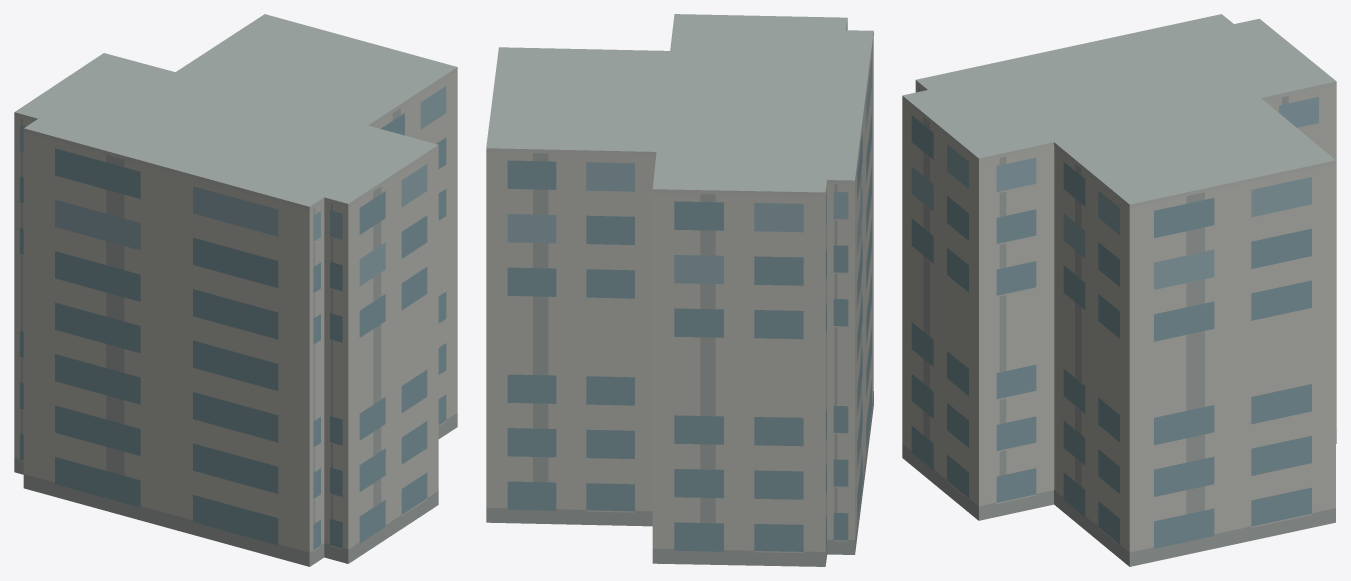
Rendered from survey-upis-32832567.glb.
3 renders of one model, left to right at view 1: azimuth 30°, elevation 25°; view 2: azimuth 150°, elevation 25°; view 3: azimuth 270°, elevation 25°, orthographic. The views are drawn at different scales.
Visible parts, largest first — view 1: survey-upis-32832567.tmp; view 2: survey-upis-32832567.tmp; view 3: survey-upis-32832567.tmp.
Part boxes in pixels (x1,y1,x2,y2): survey-upis-32832567.tmp: (14,14,457,566); survey-upis-32832567.tmp: (486,14,873,566); survey-upis-32832567.tmp: (902,14,1336,566).
Bounding box in the file's own units: 25.07 × 22.22 × 24.16.
